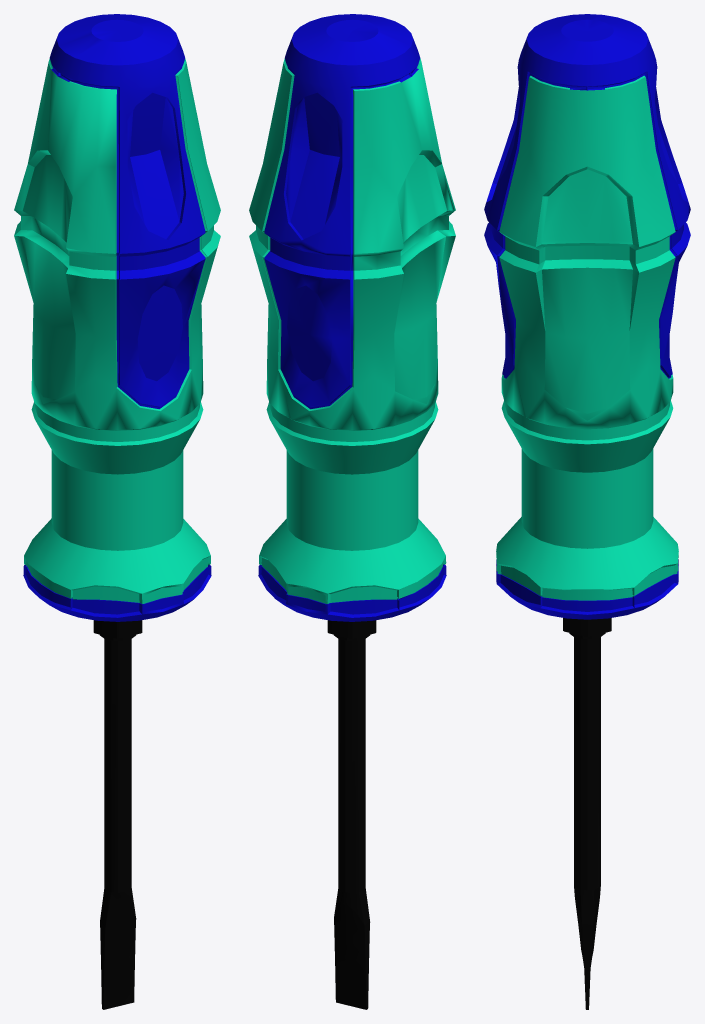
Rendered from Obeng Minus_LP.fbx.
3 views of the same model, side by side, from view 1: azimuth 30°, elevation 25°; view 2: azimuth 150°, elevation 25°; view 3: azimuth 270°, elevation 25° (orthographic).
Parts seen in each view (by area): view 1: Obeng Minus_LP; view 2: Obeng Minus_LP; view 3: Obeng Minus_LP.
Part boxes in pixels (x1,y1,x2,y2): Obeng Minus_LP: (14,14,220,1009); Obeng Minus_LP: (249,14,455,1009); Obeng Minus_LP: (484,14,690,1009).
Size of the model in its own units: 5.8 by 34.26 by 6.61.
